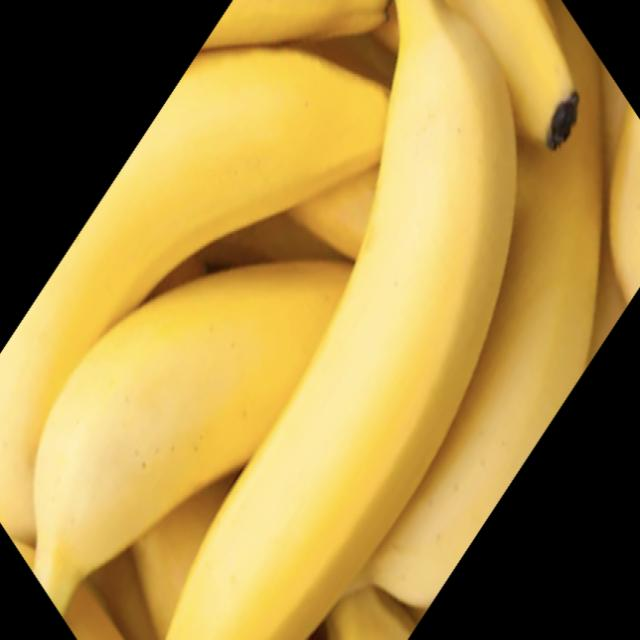god quality banana: (0, 0, 517, 639)
